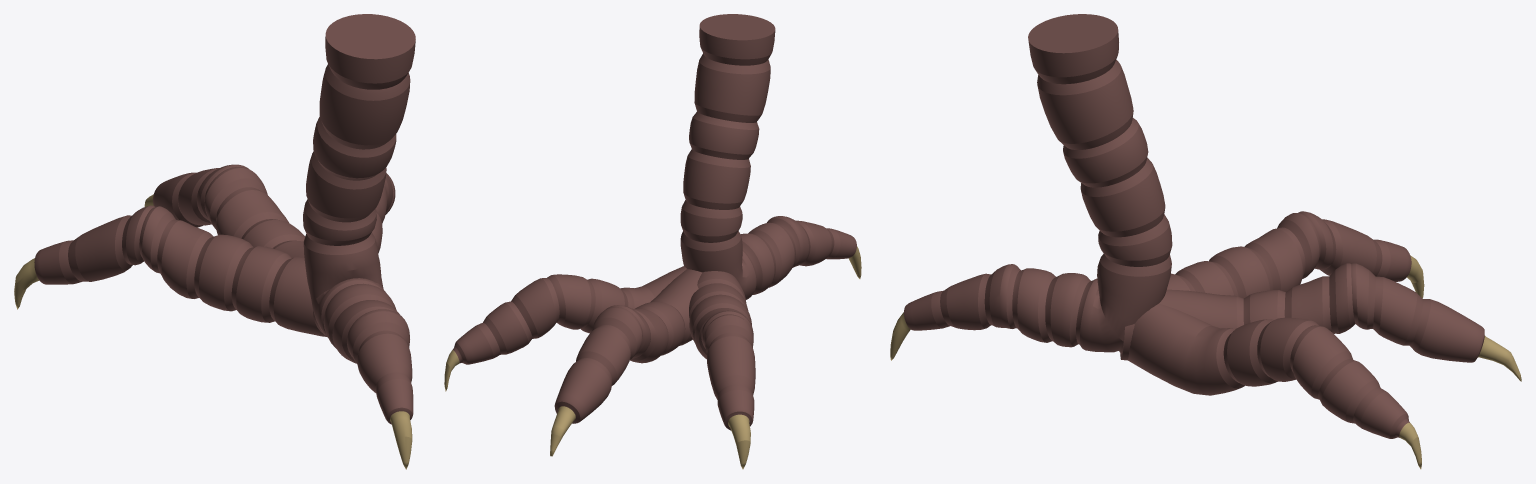
The model's file is karayak.fbx.
3 views of the same model, side by side, from view 1: azimuth 30°, elevation 25°; view 2: azimuth 150°, elevation 25°; view 3: azimuth 270°, elevation 25° (orthographic). The views are drawn at different scales.
Visible parts, largest first — view 1: Vert; view 2: Vert; view 3: Vert.
Part boxes in pixels (box(x1,y1,x2,y2)): Vert: box(14, 14, 415, 469); Vert: box(444, 14, 861, 469); Vert: box(890, 14, 1521, 469).
Bounding box in the file's own units: 320 × 304 × 481.
